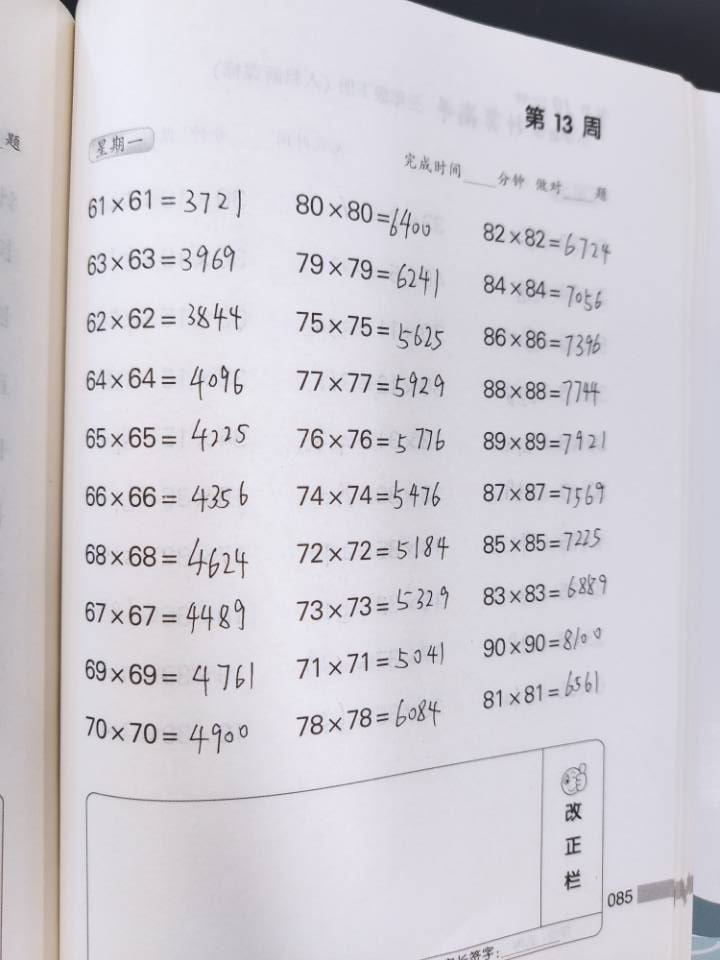equation: (469, 339, 518, 580), (432, 613, 480, 853), (530, 599, 572, 863), (517, 356, 565, 572), (395, 615, 438, 856), (173, 627, 216, 860), (482, 603, 521, 859), (352, 615, 392, 864), (180, 361, 226, 576), (227, 352, 270, 580), (497, 141, 549, 324), (140, 360, 183, 579), (392, 353, 434, 575), (263, 620, 303, 852), (131, 620, 170, 857), (308, 617, 345, 856), (310, 131, 353, 336), (311, 356, 351, 575), (434, 337, 470, 580), (383, 137, 426, 339), (272, 351, 309, 580), (355, 356, 391, 580), (272, 141, 311, 339), (422, 125, 461, 323), (222, 628, 256, 852), (199, 137, 238, 325), (463, 145, 502, 331), (238, 137, 274, 333), (163, 125, 197, 328), (353, 141, 383, 327)
